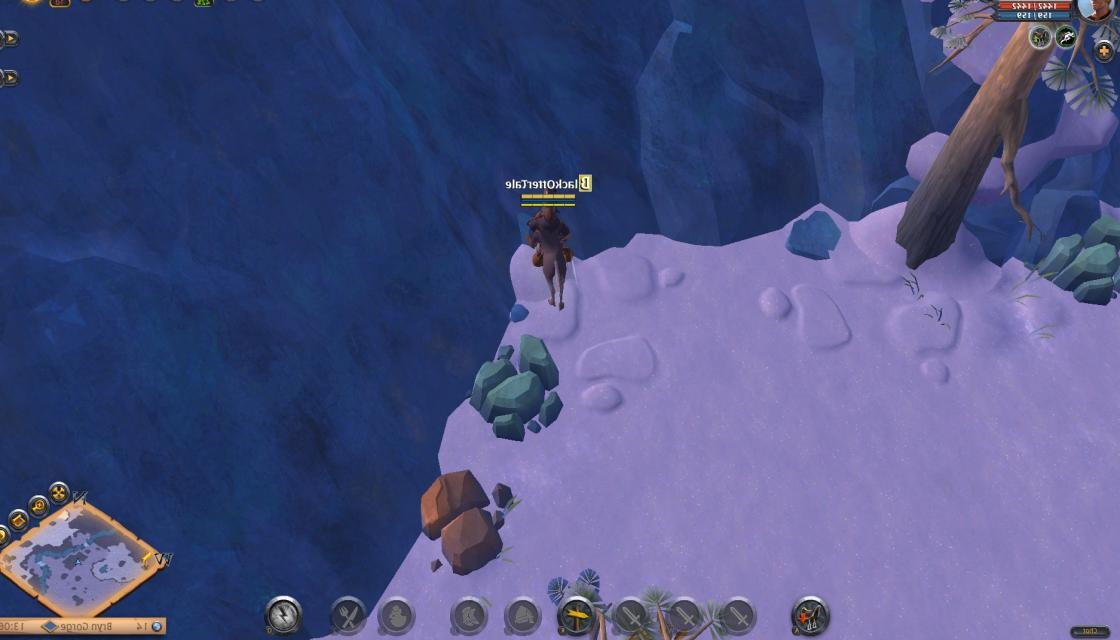limestone: (416, 467, 508, 575)
sandstone: (473, 330, 566, 446), (1038, 218, 1120, 310)
